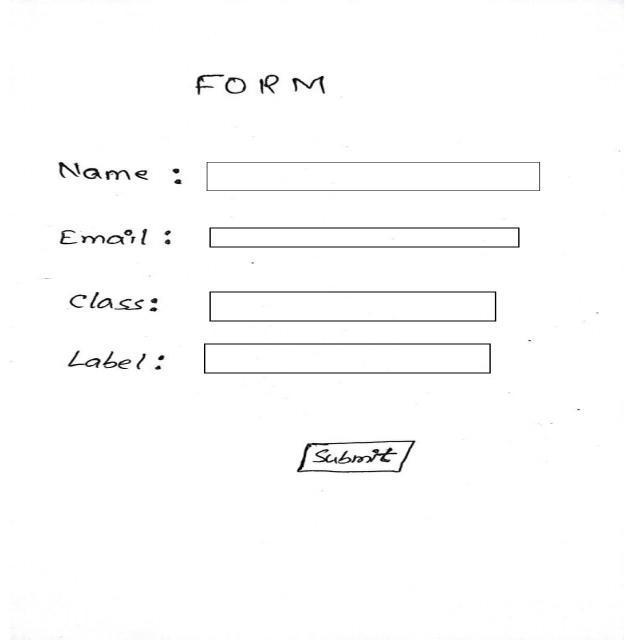textbox: (196, 154, 556, 197), (191, 338, 504, 381), (199, 286, 510, 327), (202, 221, 528, 258)
